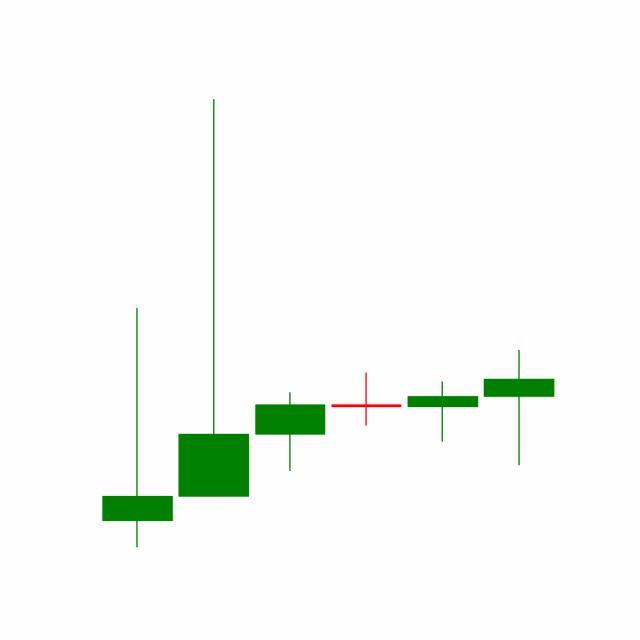Spinning Top: (404, 381, 482, 444)
